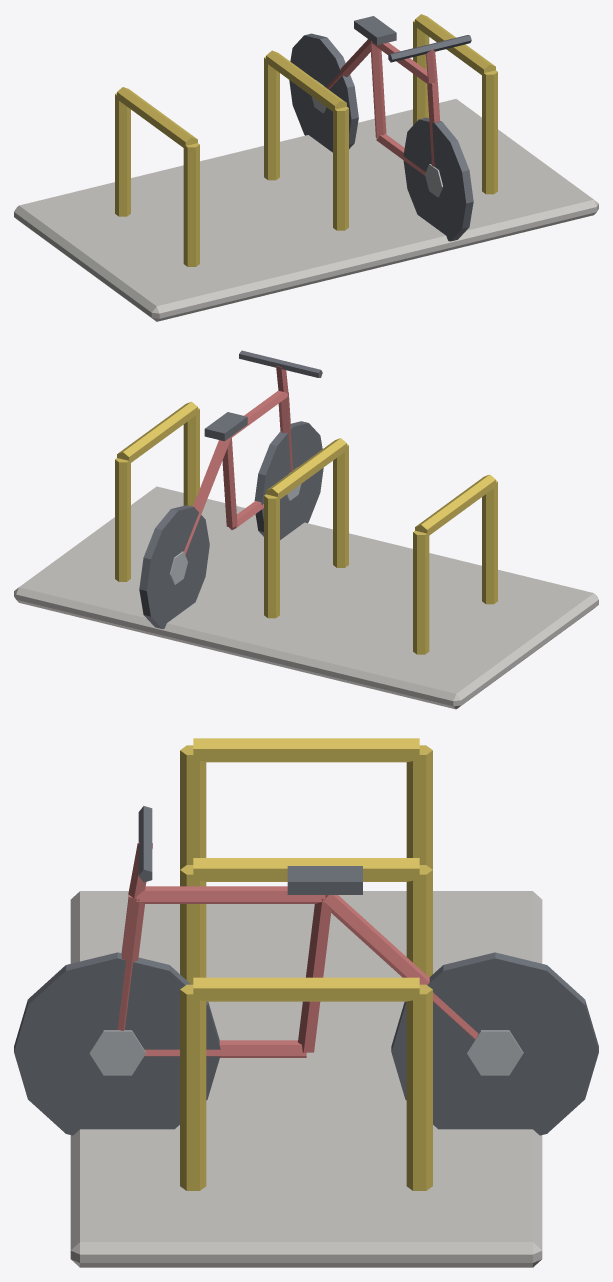
The model's file is mobiliario__bicicletario.glb.
The picture shows the model from 3 angles, top to bottom: view 1: azimuth 30°, elevation 25°; view 2: azimuth 150°, elevation 25°; view 3: azimuth 270°, elevation 25°; orthographic projection. The views are drawn at different scales.
Visible parts, largest first — view 1: mobiliario__bicicletario; view 2: mobiliario__bicicletario; view 3: mobiliario__bicicletario.
Boxes of the visible parts, x1,y1,x2,y2 form: mobiliario__bicicletario: (14, 14, 598, 321); mobiliario__bicicletario: (14, 350, 598, 709); mobiliario__bicicletario: (14, 738, 598, 1267).
Bounding box in the file's own units: 0.9 × 0.3676 × 0.62.
